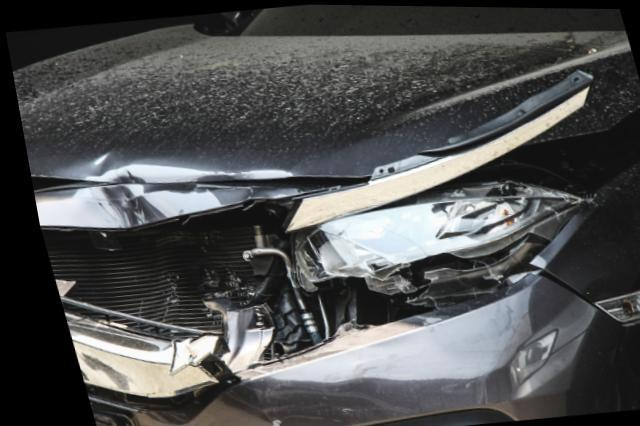dent: (80, 183, 248, 229), (72, 149, 284, 182)
dislocated part: (447, 97, 640, 193)
lamp broken: (284, 176, 578, 331)
no part: (32, 197, 308, 370)
